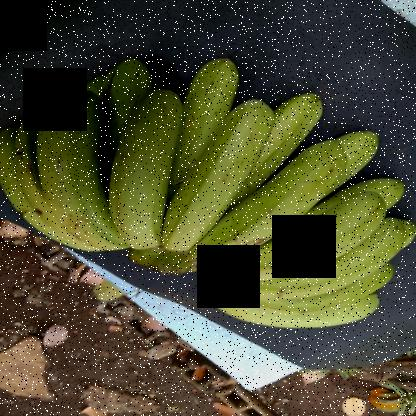freshunripe: (196, 143, 357, 264), (158, 97, 275, 255), (213, 186, 390, 280), (100, 89, 190, 250), (251, 90, 327, 170), (182, 53, 247, 130), (335, 128, 387, 193)
unripe: (23, 87, 126, 254), (215, 220, 415, 304), (202, 283, 388, 331), (86, 57, 156, 133)
